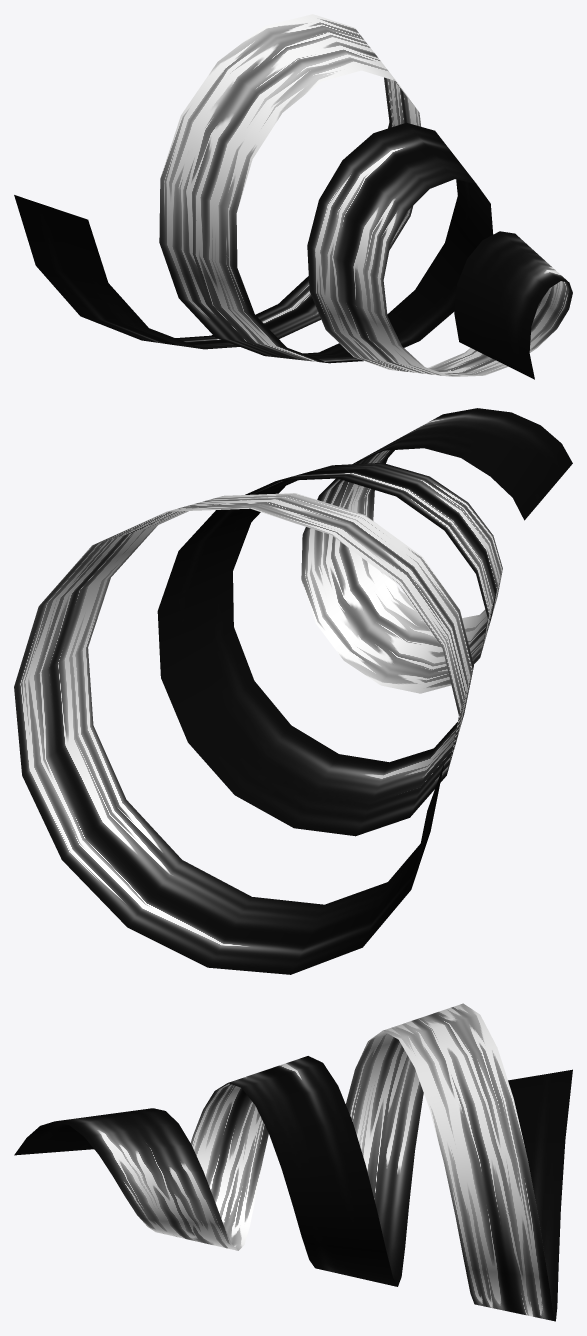
The model's file is FireHelixMesh.fbx.
3 renders of one model, top to bottom at view 1: azimuth 30°, elevation 25°; view 2: azimuth 150°, elevation 25°; view 3: azimuth 270°, elevation 25°, orthographic. The views are drawn at different scales.
Visible parts, largest first — view 1: FireWind1; view 2: FireWind1; view 3: FireWind1.
Boxes of the visible parts, x1,y1,x2,y2 form: FireWind1: (14,14,572,379); FireWind1: (14,408,572,974); FireWind1: (14,1003,572,1321).
Size of the model in its own units: 64.12 by 58.41 by 99.76.
Materials: 1 (1 with a texture image).
